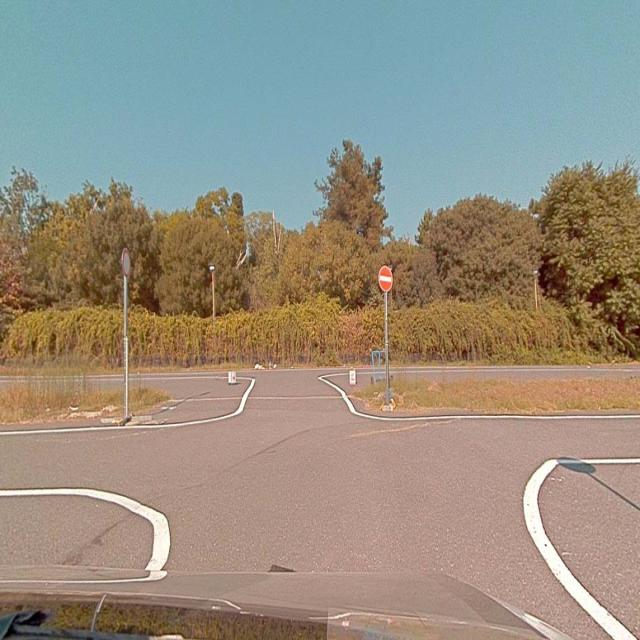girisyok: (379, 266, 393, 290)
